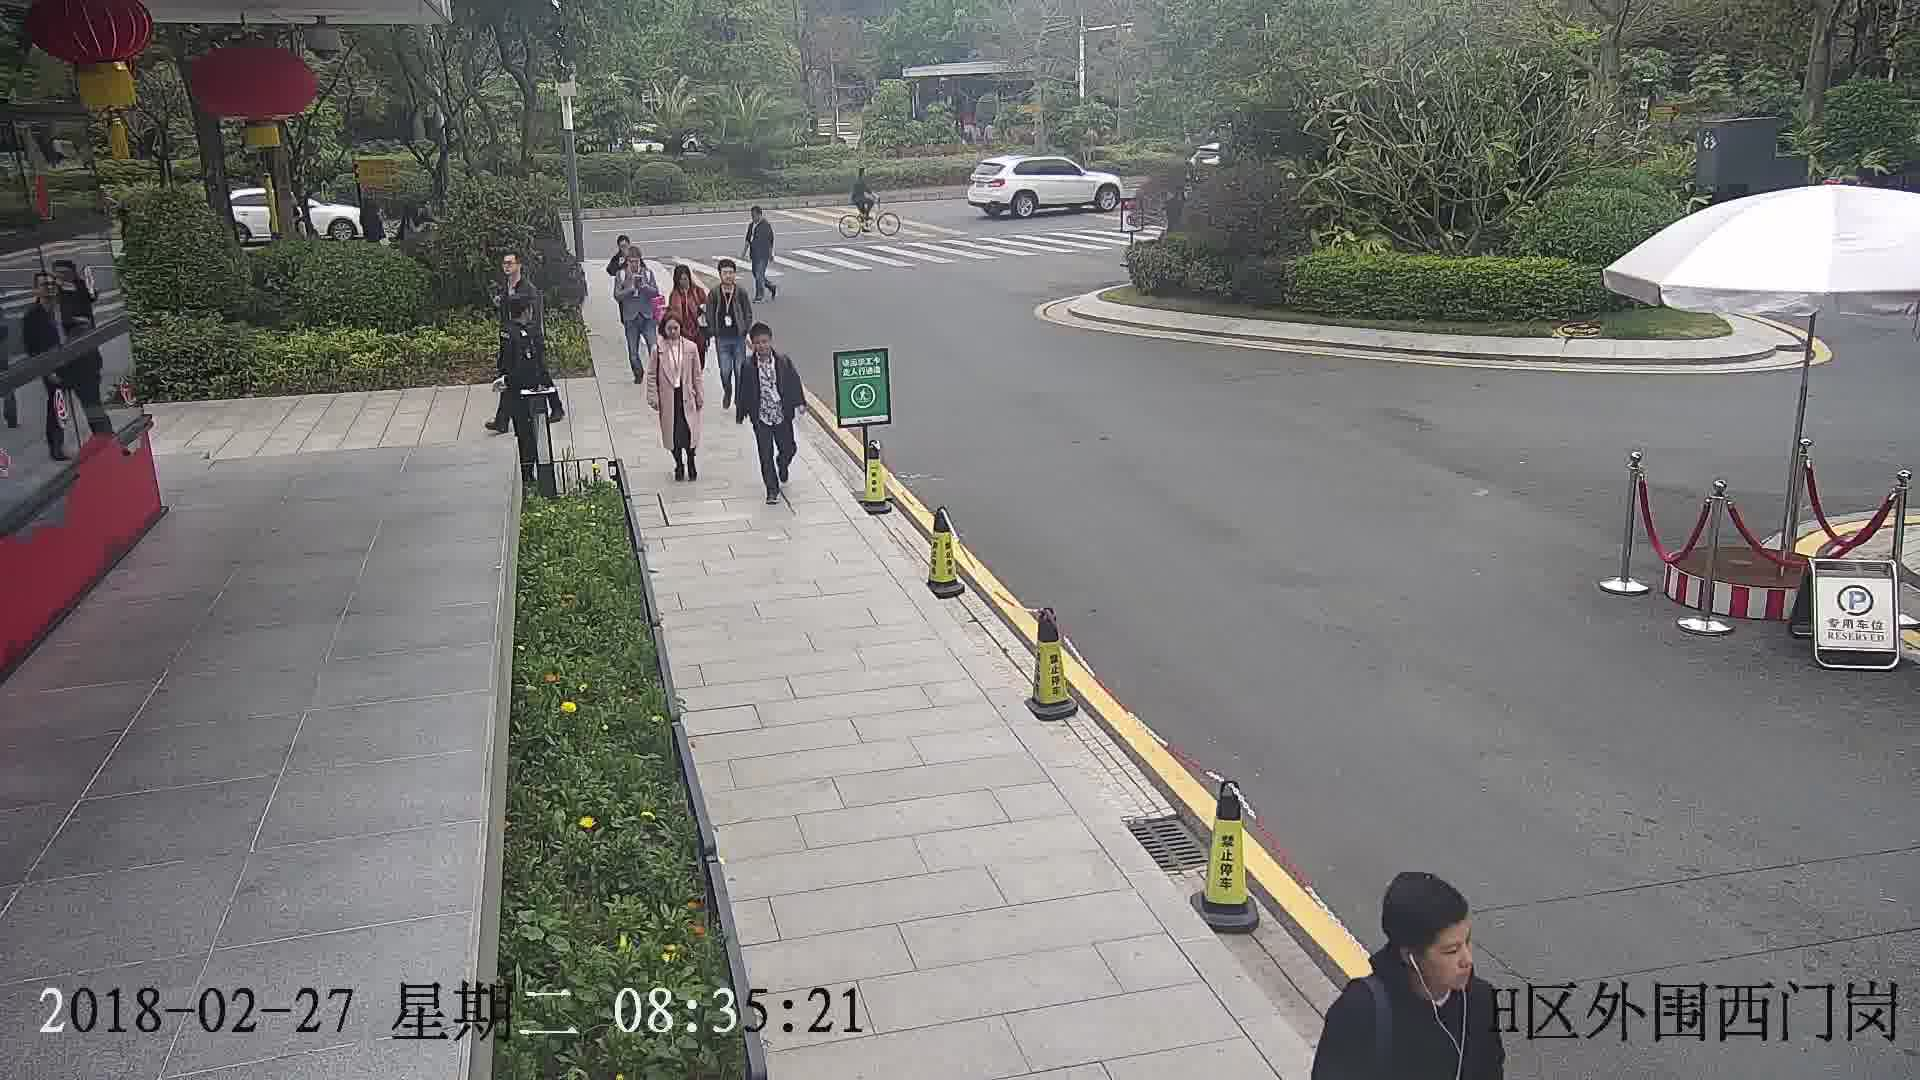face: (1410, 917, 1486, 993)
person: (1320, 872, 1499, 1057), (486, 251, 530, 312), (742, 320, 793, 372), (653, 313, 697, 356), (660, 260, 704, 303), (707, 256, 748, 300), (620, 245, 653, 277), (609, 232, 637, 261), (746, 204, 774, 233), (850, 165, 872, 185)
